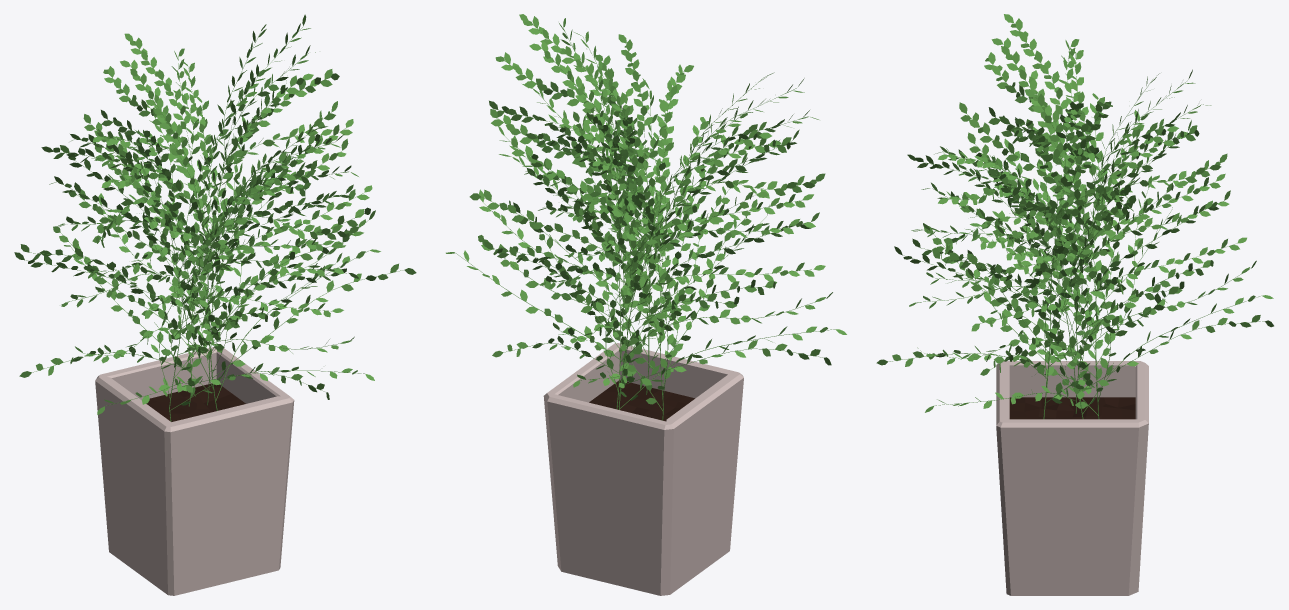
The model's file is flower_pot.glb.
The picture shows the model from 3 angles, left to right: view 1: azimuth 30°, elevation 25°; view 2: azimuth 150°, elevation 25°; view 3: azimuth 270°, elevation 25°; orthographic projection.
Parts seen in each view (by area): view 1: FlowerPot; view 2: FlowerPot; view 3: FlowerPot.
Boxes of the visible parts, x1,y1,x2,y2 form: FlowerPot: [14, 14, 416, 595]; FlowerPot: [446, 14, 846, 595]; FlowerPot: [876, 14, 1273, 595].
Size of the model in its own units: 1.59 by 2.1 by 1.45.
